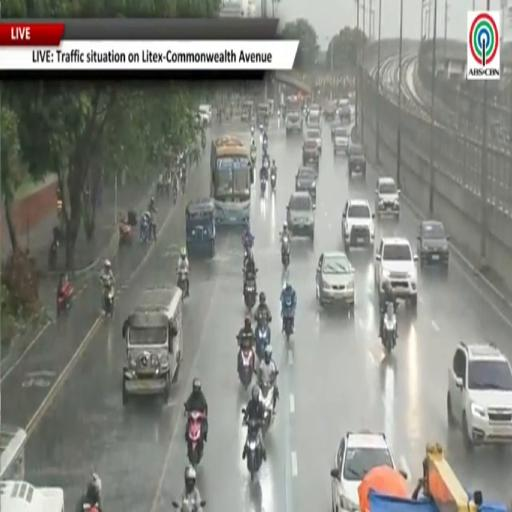bus: (0, 425, 64, 511), (211, 135, 253, 226), (0, 425, 26, 479)
car: (447, 343, 511, 451), (331, 432, 404, 511), (375, 237, 417, 309), (316, 252, 354, 308), (342, 200, 374, 250), (417, 220, 449, 268), (287, 192, 315, 241), (375, 178, 400, 218), (295, 167, 318, 203), (348, 142, 366, 177), (303, 139, 319, 169), (334, 126, 349, 155), (285, 110, 302, 135), (306, 125, 321, 152), (338, 103, 352, 125), (198, 104, 212, 125), (330, 120, 341, 141), (324, 102, 336, 121), (309, 104, 321, 119), (308, 111, 320, 125)
jeepney: (123, 286, 182, 405), (186, 199, 215, 257), (257, 102, 269, 128), (241, 101, 253, 122), (268, 100, 275, 116)
motorcycle: (244, 419, 263, 481), (186, 411, 204, 466), (260, 382, 275, 435), (238, 344, 254, 389), (382, 302, 396, 353), (57, 280, 74, 315), (256, 323, 270, 360), (172, 498, 206, 511), (244, 277, 256, 310), (48, 239, 59, 271), (119, 222, 133, 246), (104, 284, 114, 317), (177, 269, 188, 298), (140, 215, 151, 243), (283, 312, 293, 342), (281, 235, 290, 267), (173, 179, 178, 203), (261, 176, 266, 195), (271, 172, 276, 191), (251, 147, 256, 164), (201, 133, 206, 150), (259, 123, 263, 133)
truck: (285, 96, 303, 135)
